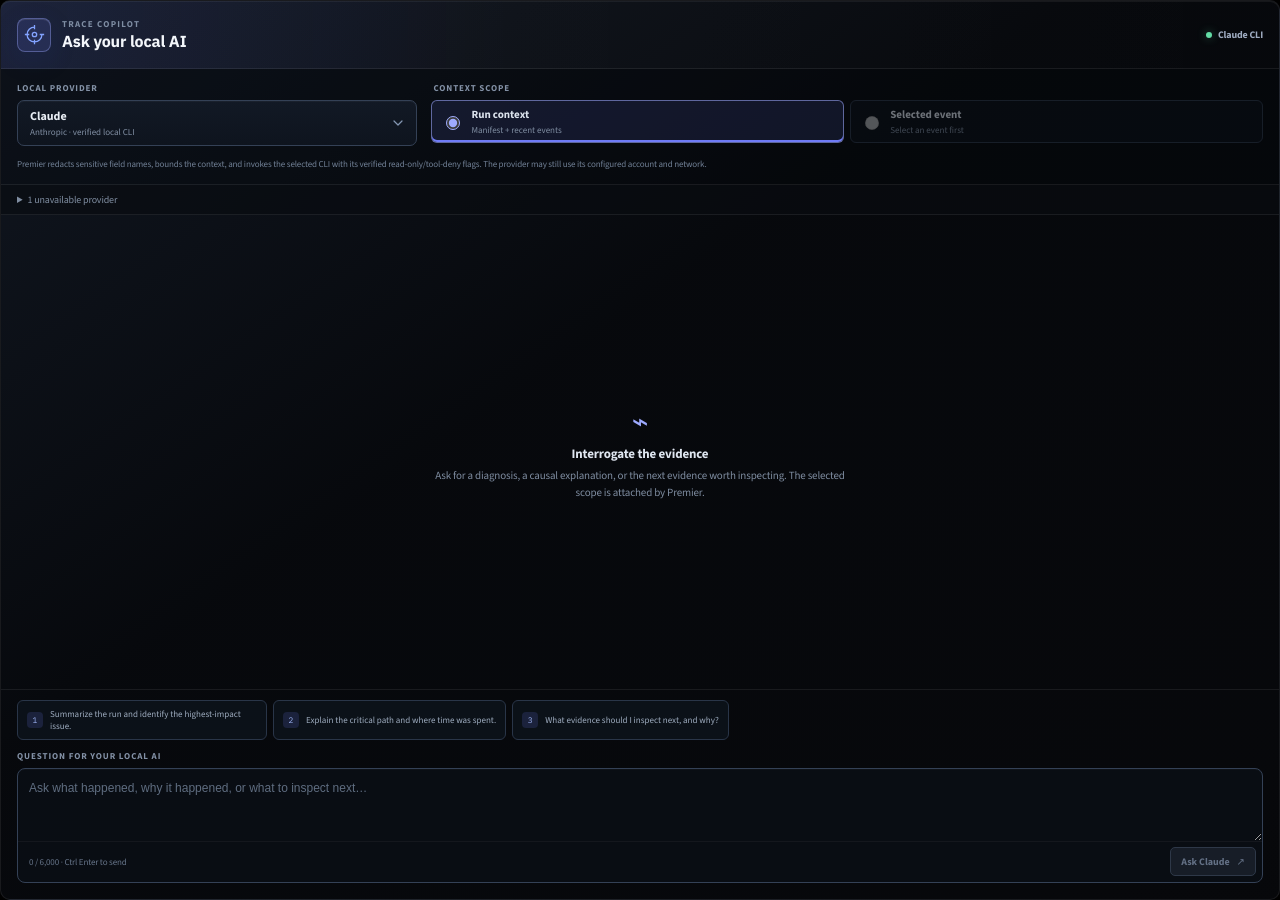
Test case: LocalAssistant › uses starters to fill the composer without submitting
Expected: the button with aria-label "Local provider" is shown, [17,100,417,146]
Click the button "1 Summarize the run and identify the highest-impact issue." at x=142, y=720, box [17,700,267,740]
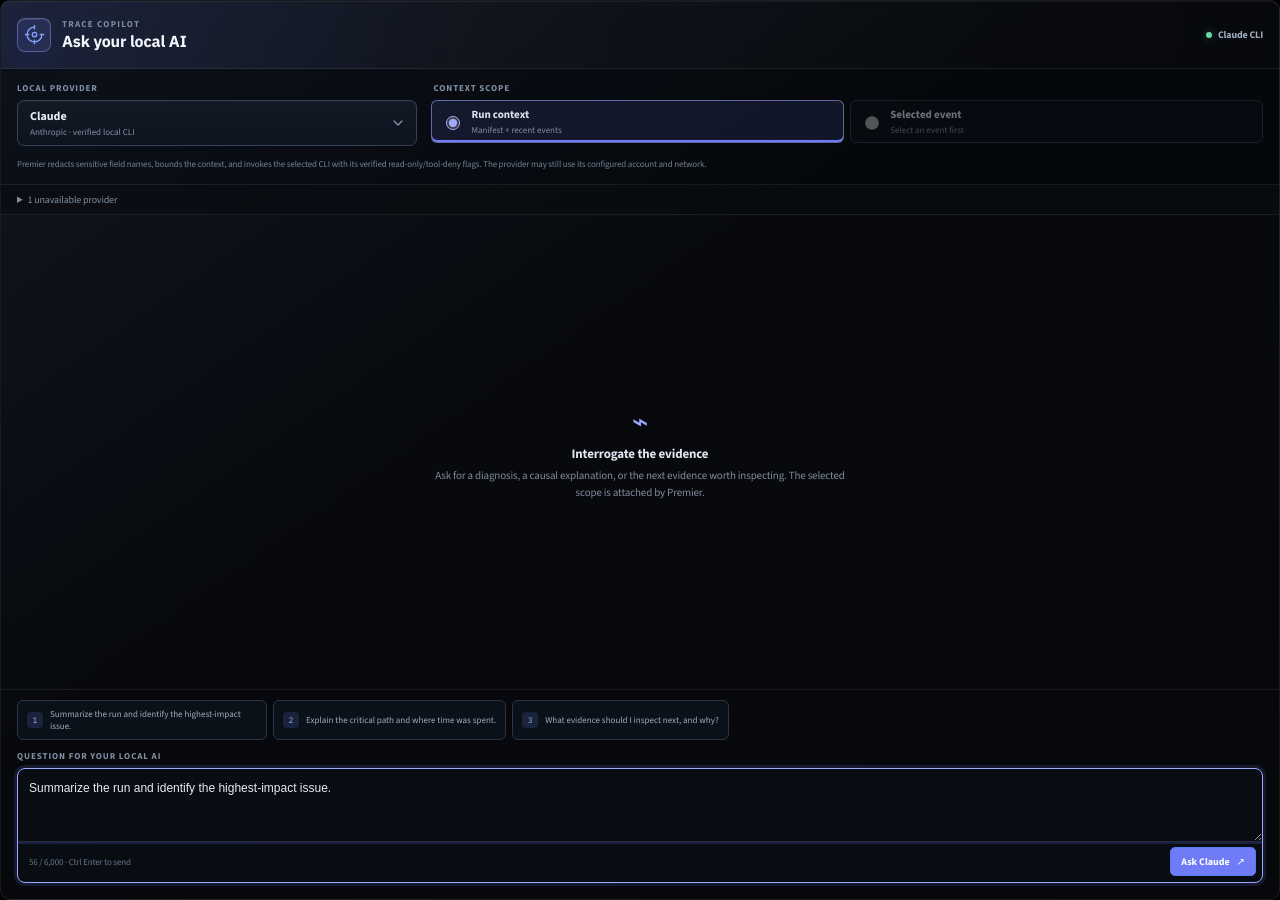
Result: the text box labelled "Question for your local AI" holds "Summarize the run and identify the highest-impact issue." at [18,769,1262,841]
